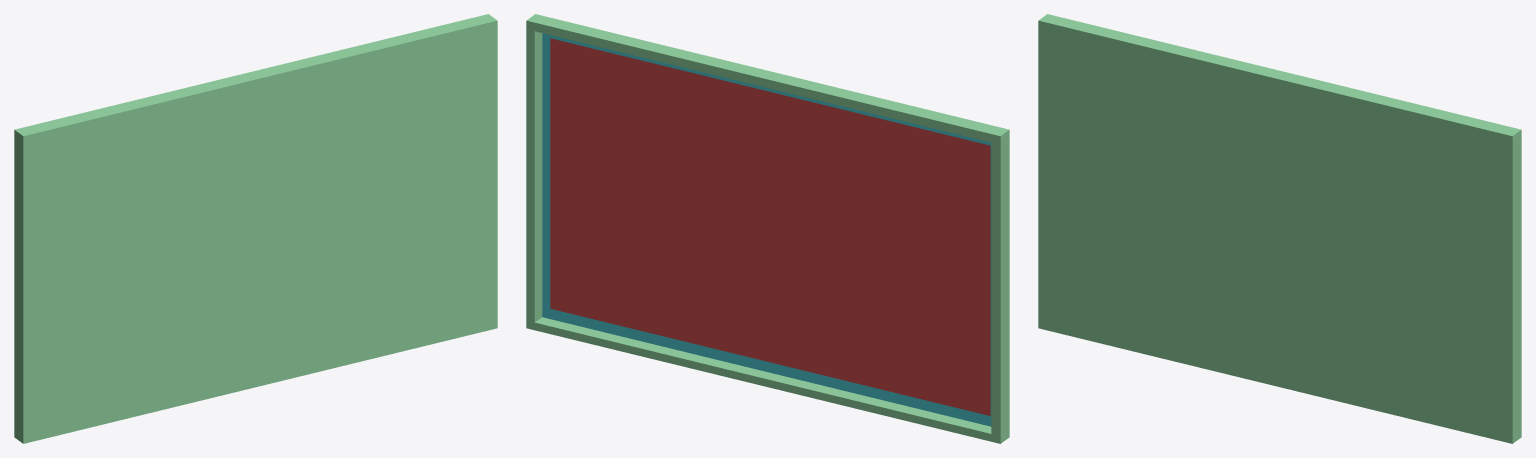
File: Prop_frame2.FBX
The picture shows the model from 3 angles, left to right: view 1: azimuth 30°, elevation 25°; view 2: azimuth 150°, elevation 25°; view 3: azimuth 330°, elevation 25°; orthographic projection.
Parts seen in each view (by area): view 1: Props_frame_004; view 2: Props_frame_004; view 3: Props_frame_004.
Boxes of the visible parts, left/top/right/bottom form: Props_frame_004: left=14, top=14, right=497, bottom=443; Props_frame_004: left=526, top=14, right=1009, bottom=443; Props_frame_004: left=1038, top=14, right=1521, bottom=443.
Bounding box in the file's own units: 58.89 × 1.95 × 36.52.
